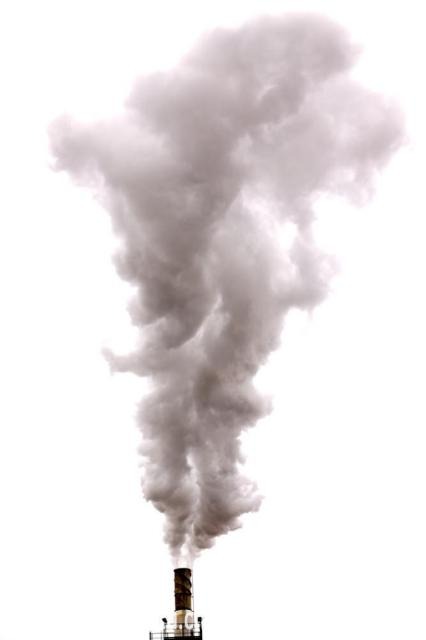smoke: (154, 19, 325, 293), (126, 293, 254, 559), (327, 84, 405, 178), (57, 122, 144, 186), (118, 190, 154, 290)
